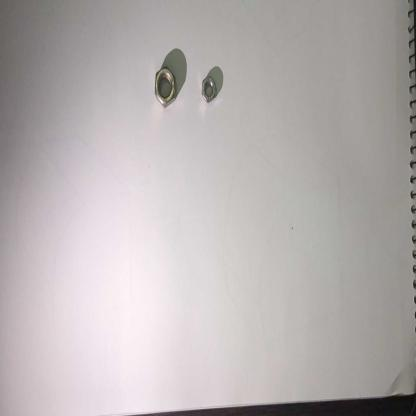NUTS: (155, 62, 178, 111), (200, 73, 218, 108)
